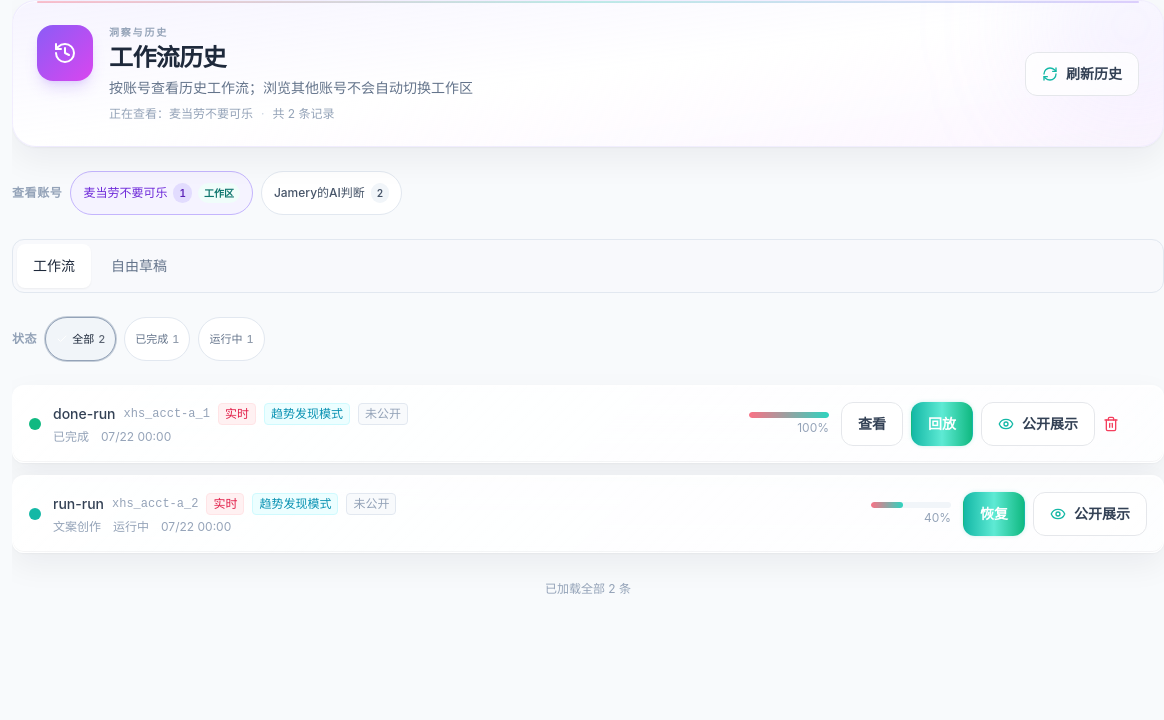
it: History view › syncs status filter into the URL query
This screenshot has width=1164, height=720.
Click the button "运行中 1". click: click(232, 339)
box: [198, 317, 265, 361]
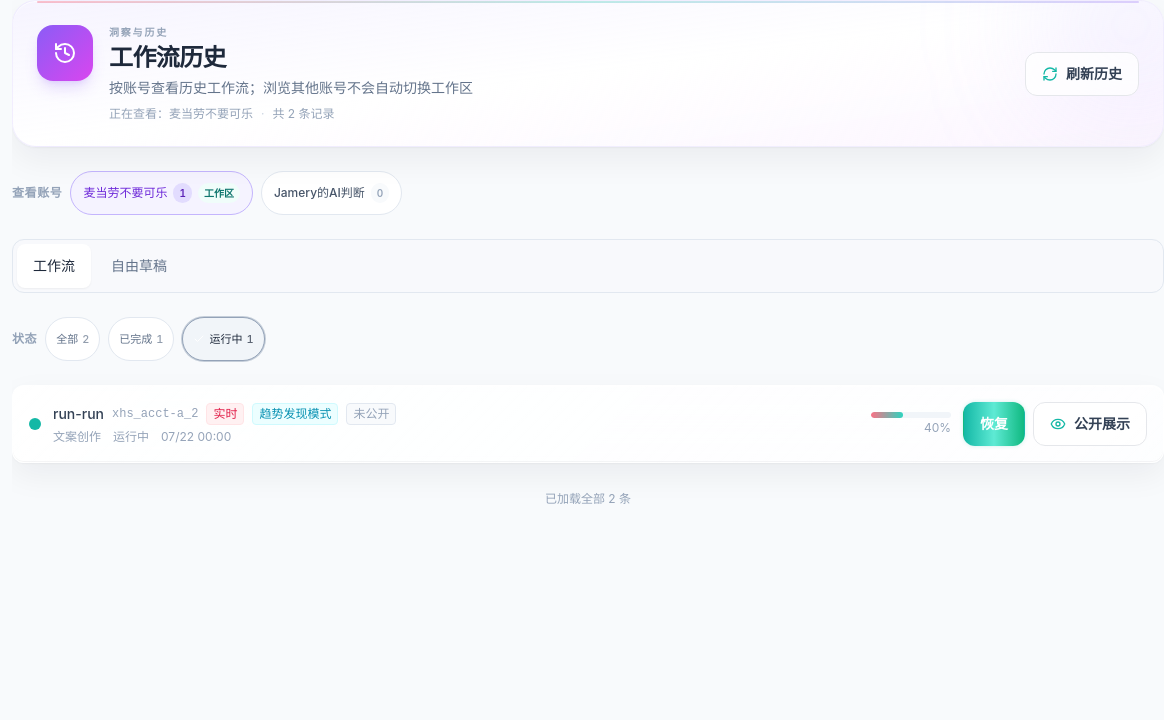
Expected: the text "run-run" is shown, [53, 404, 104, 424]
Now the text "done-run" is gone
